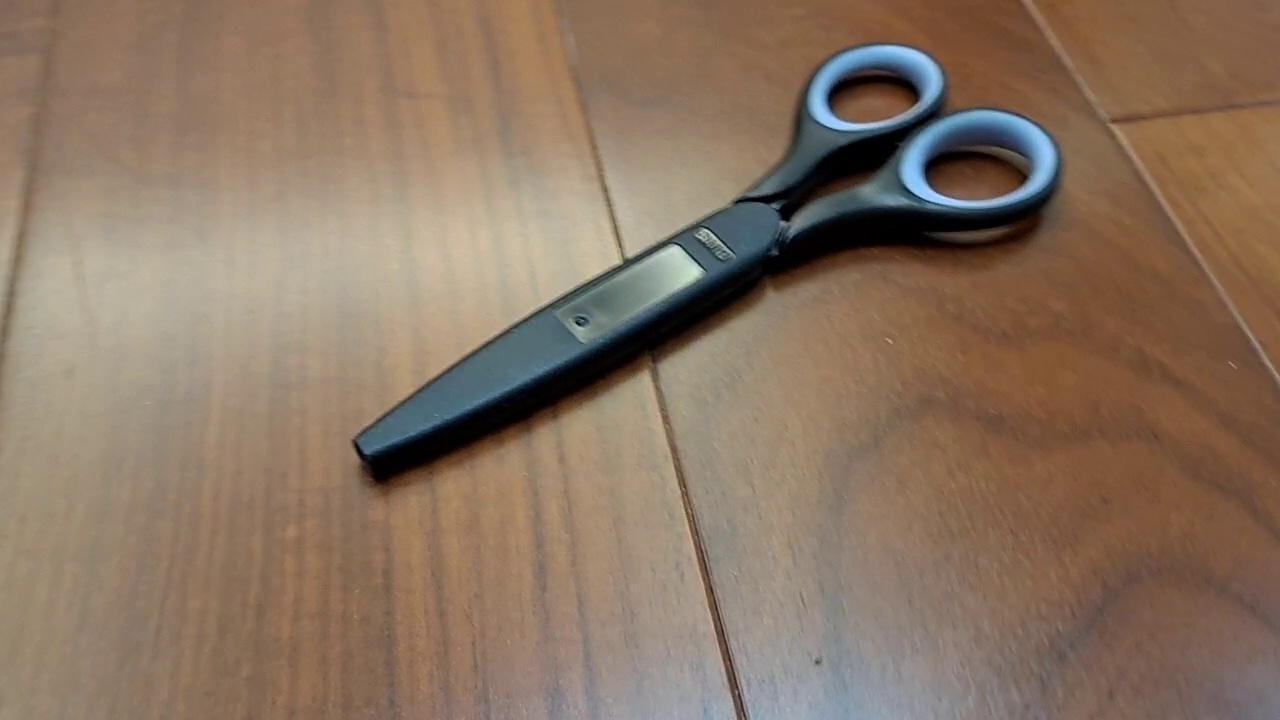scissors: (350, 40, 1066, 486)
